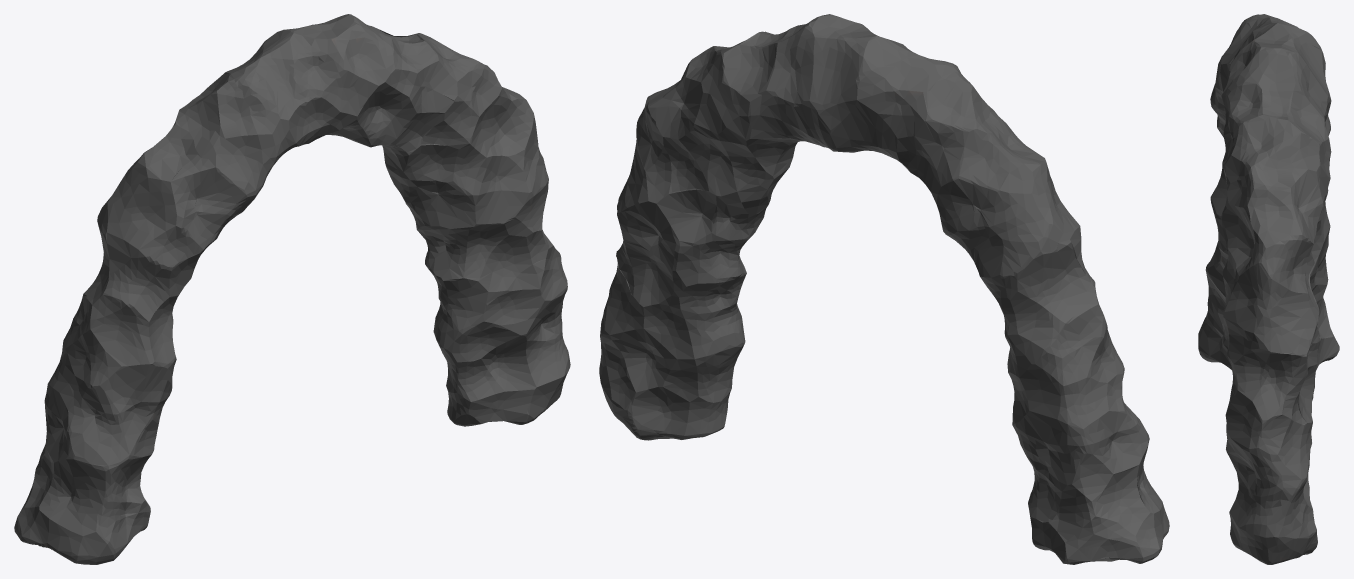
Rendered from Arch.fbx.
3 views of the same model, side by side, from view 1: azimuth 30°, elevation 25°; view 2: azimuth 150°, elevation 25°; view 3: azimuth 270°, elevation 25° (orthographic). The views are drawn at different scales.
Visible parts, largest first — view 1: Cube; view 2: Cube; view 3: Cube.
Part boxes in pixels (x1,y1,x2,y2): Cube: (14,14,570,564); Cube: (599,14,1169,564); Cube: (1198,14,1339,564).
Size of the model in its own units: 1221 by 980 by 279.
